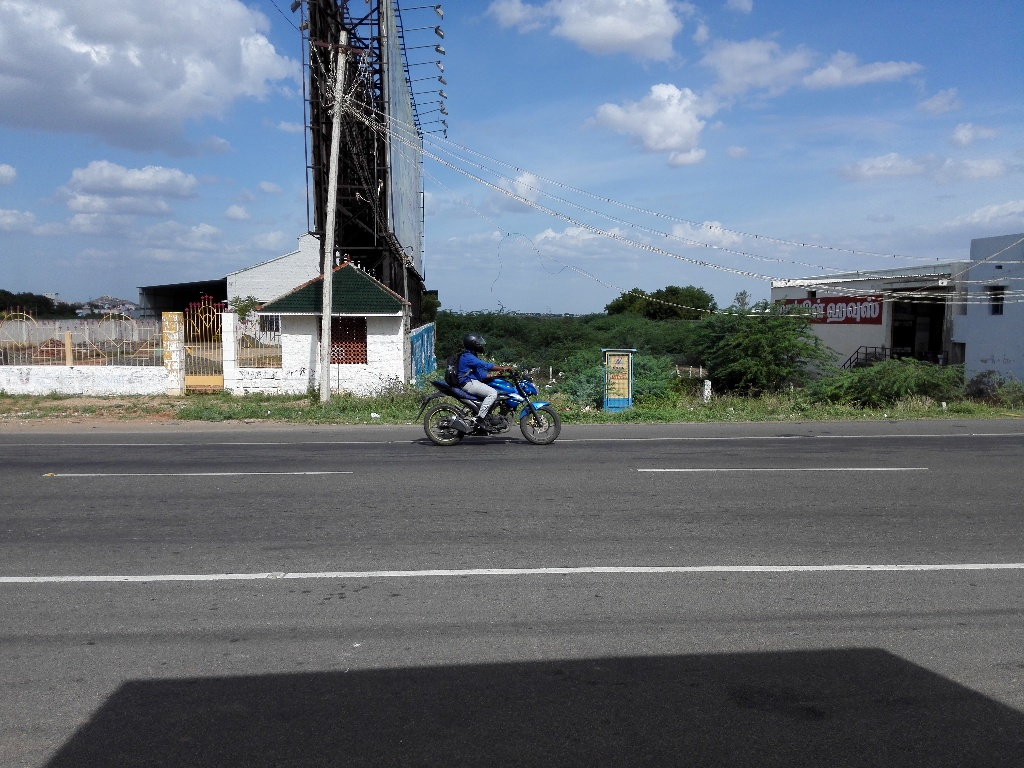biker: (406, 309, 576, 461)
helmet: (458, 328, 497, 362)
